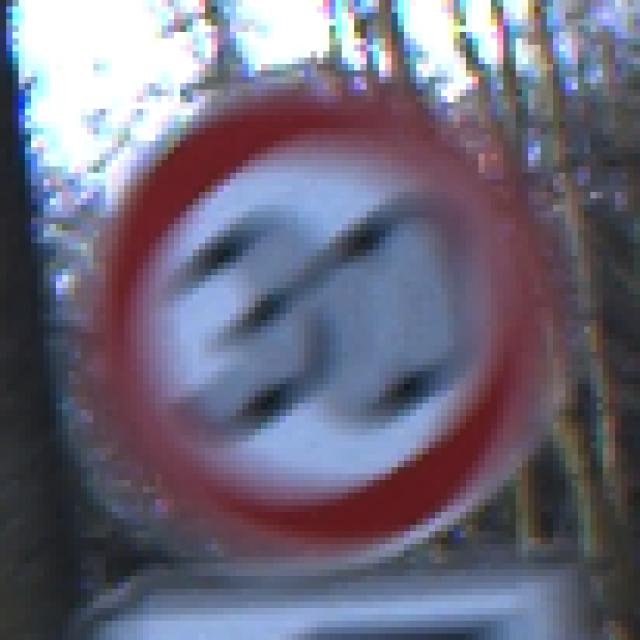Speed Limit -30-: (53, 48, 581, 586)
